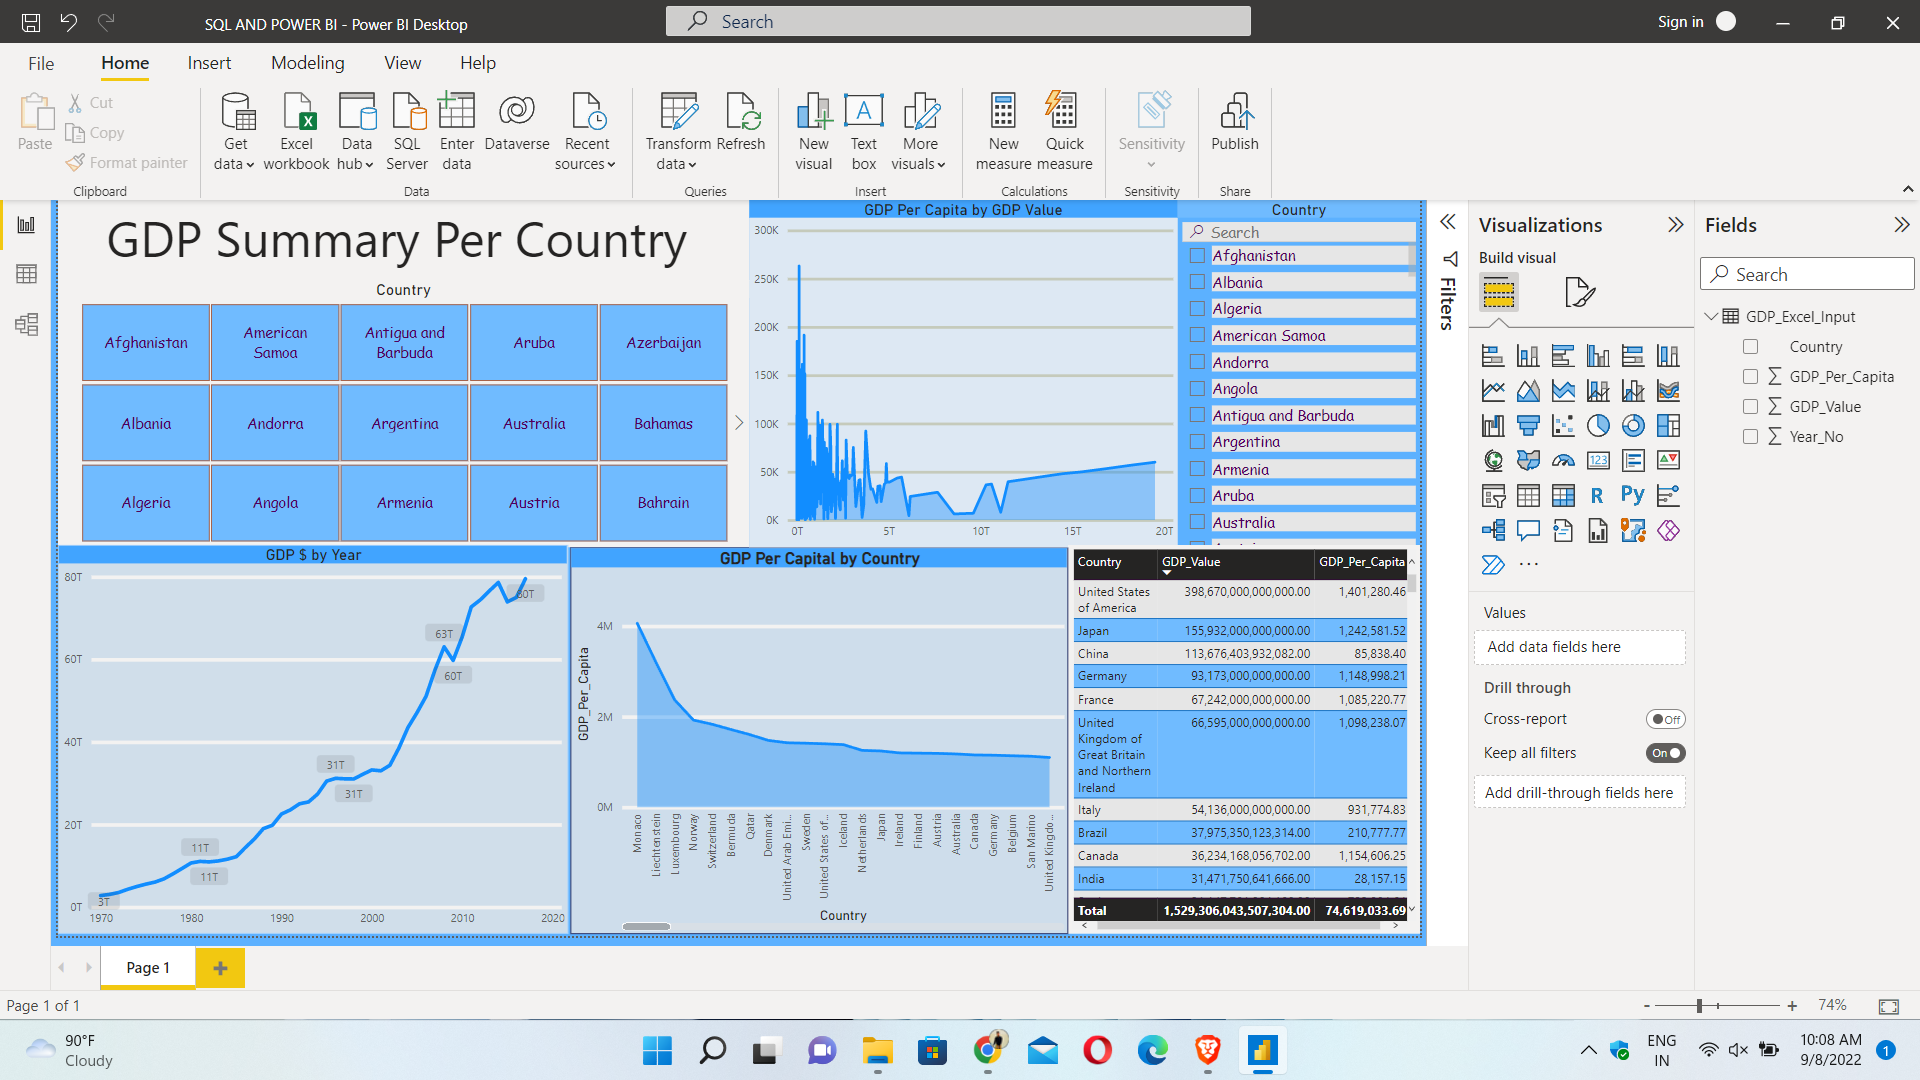

This screenshot's page, from the dashboard's own definition file:
{"tool":"powerbi","page":{"name":"Page 1","canvas":[1480,800],"ordinal":0},"visuals":[{"type":"textbox","box":[0,0,751.1,86.9],"z":1000},{"type":"shape","box":[0,122,734.6,18],"z":2000},{"type":"slicer","title":"Country","fields":{"Values":["GDP_Excel_Input.Country"]},"box":[0,86.9,751.1,290.7],"z":3000},{"type":"slicer","title":"Country","fields":{"Values":["GDP_Excel_Input.Country"]},"box":[1217,0,263.5,384.4],"z":4000},{"type":"lineChart","title":"GDP $  by Year","fields":{"Category":["GDP_Excel_Input.Year_No"],"Y":["Sum(GDP_Excel_Input.GDP_Value)"]},"box":[0,374.9,554.2,422.4],"z":5000},{"type":"tableEx","fields":{"Values":["GDP_Excel_Input.Country","Sum(GDP_Excel_Input.GDP_Value)","Sum(GDP_Excel_Input.GDP_Per_Capita)"]},"box":[1097.5,374.9,383,422.4],"z":6000},{"type":"stackedAreaChart","title":"GDP Per Capital by Country","fields":{"Category":["GDP_Excel_Input.Country"],"Y":["Sum(GDP_Excel_Input.GDP_Per_Capita)"]},"box":[556.9,377.6,540.6,419.7],"z":7000},{"type":"stackedAreaChart","title":"GDP Per Capita by GDP Value","fields":{"Category":["GDP_Excel_Input.GDP_Value"],"Y":["Sum(GDP_Excel_Input.GDP_Per_Capita)"]},"box":[751.1,0,465.9,377.6],"z":8000}]}

Visuals, with their boxes on the page's 1480x800 design canvas (x1, y1, x2, y2). These are canvas units, not pixel positions in the 1920x1080 screenshot, which may show the page scaled, cropped or inside an application window:
textbox: 0, 0, 751, 87
shape: 0, 122, 735, 140
"Country" slicer: 0, 87, 751, 378
"Country" slicer: 1217, 0, 1480, 384
"GDP $  by Year" lineChart: 0, 375, 554, 797
tableEx - GDP_Excel_Input.Country x Sum(GDP_Excel_Input.GDP_Value): 1098, 375, 1480, 797
"GDP Per Capital by Country" stackedAreaChart: 557, 378, 1098, 797
"GDP Per Capita by GDP Value" stackedAreaChart: 751, 0, 1217, 378
